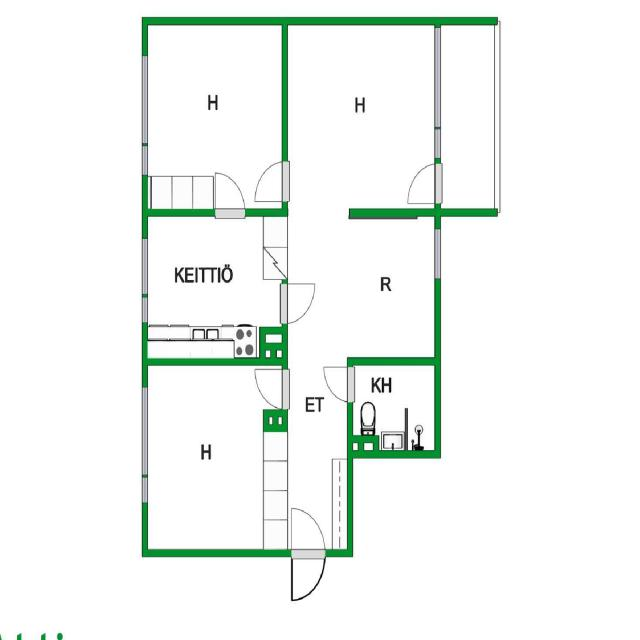door: (291, 504, 325, 556), (291, 549, 325, 601), (215, 169, 245, 216), (405, 164, 440, 204), (282, 283, 317, 323), (252, 161, 287, 201), (252, 369, 287, 408), (321, 367, 353, 401)
